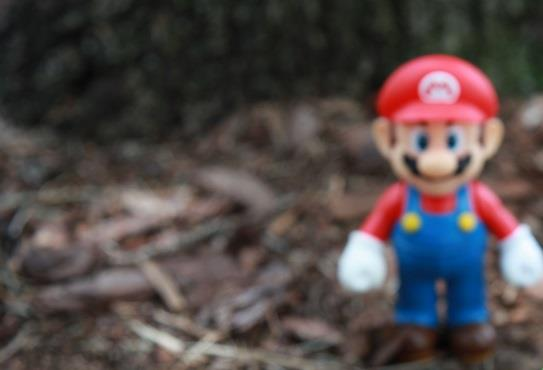mario: (333, 42, 532, 348)
